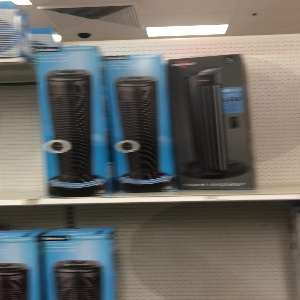void: (117, 205, 300, 299), (246, 35, 300, 194), (1, 61, 45, 196)
